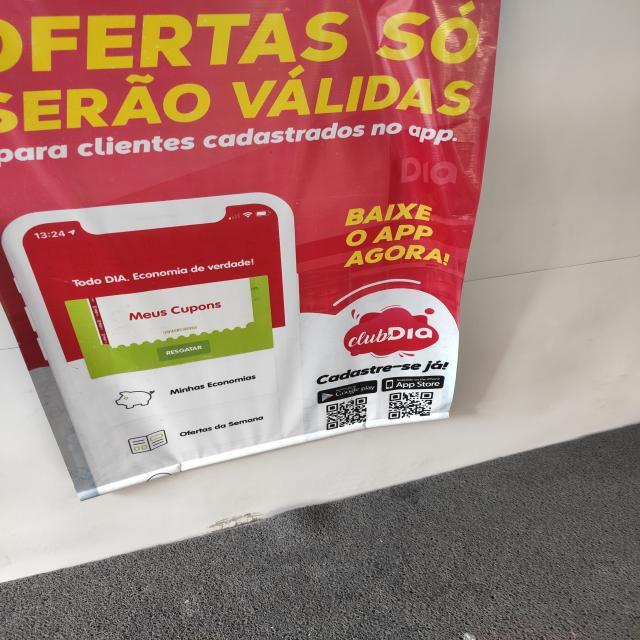qr-code: (326, 397, 367, 430), (388, 392, 434, 419)
